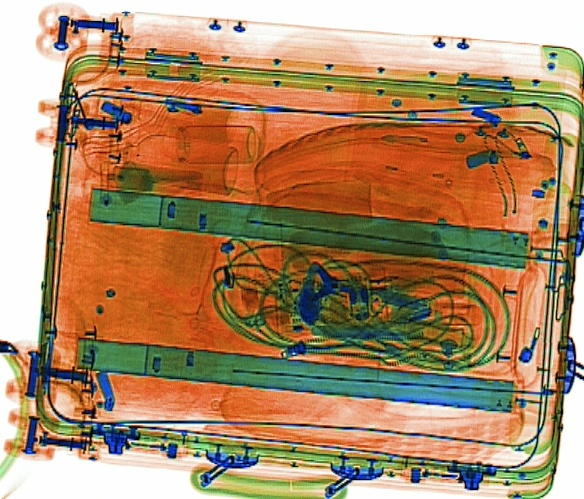pressure: (119, 131, 240, 196), (172, 121, 257, 164)
